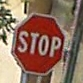stop: (12, 12, 67, 74)
